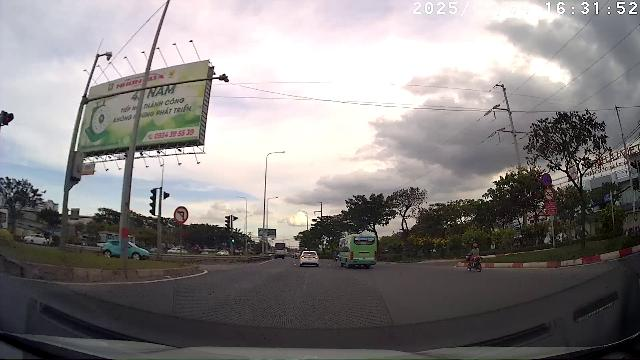130-cam-dung-va-do-xe: (542, 173, 552, 187)
